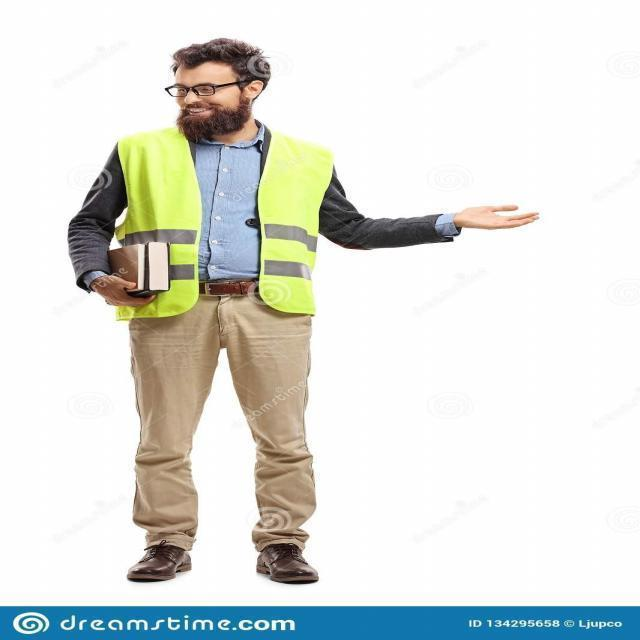no-helmet: (169, 38, 275, 102)
vest: (101, 118, 344, 324)
